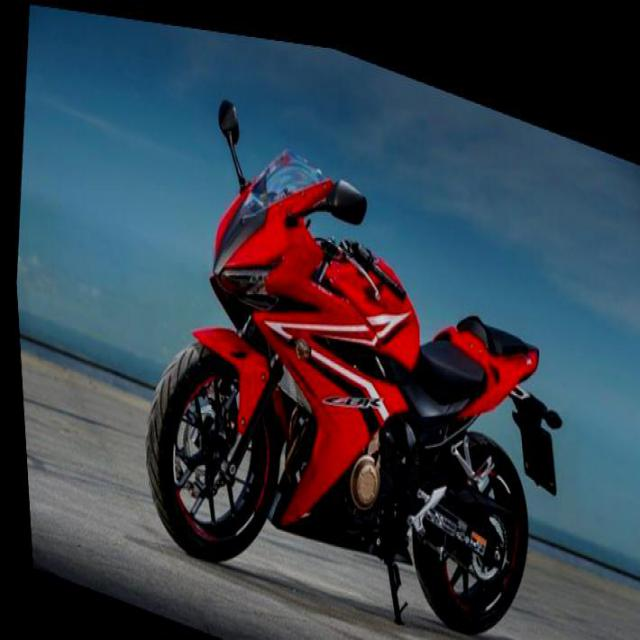CBR500R: (112, 59, 592, 638)
